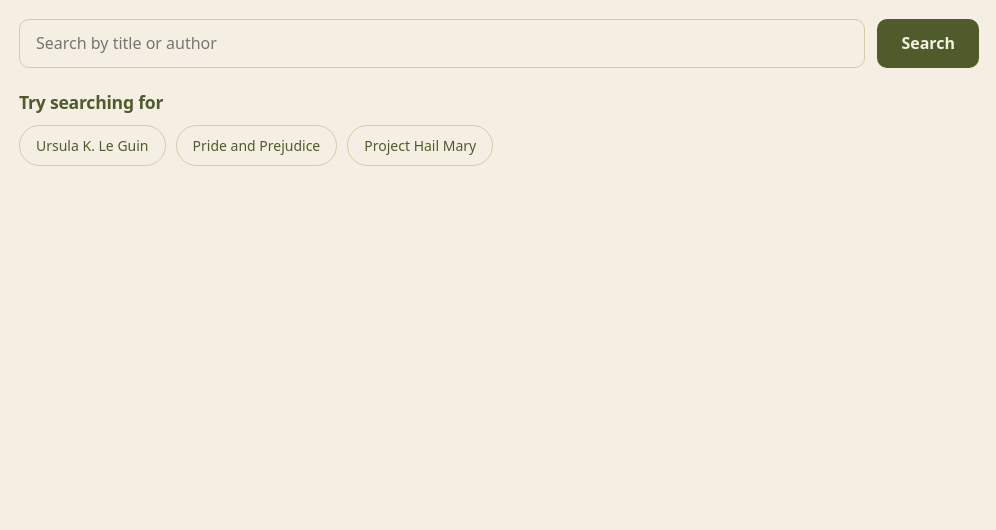
Test: SearchPage › TST-01-T-1 search page lists results for a query
This screenshot has width=996, height=530.
Type "dune" into the dropdown labelled "Search by title or author" at (442, 44), box [19,19,865,68]
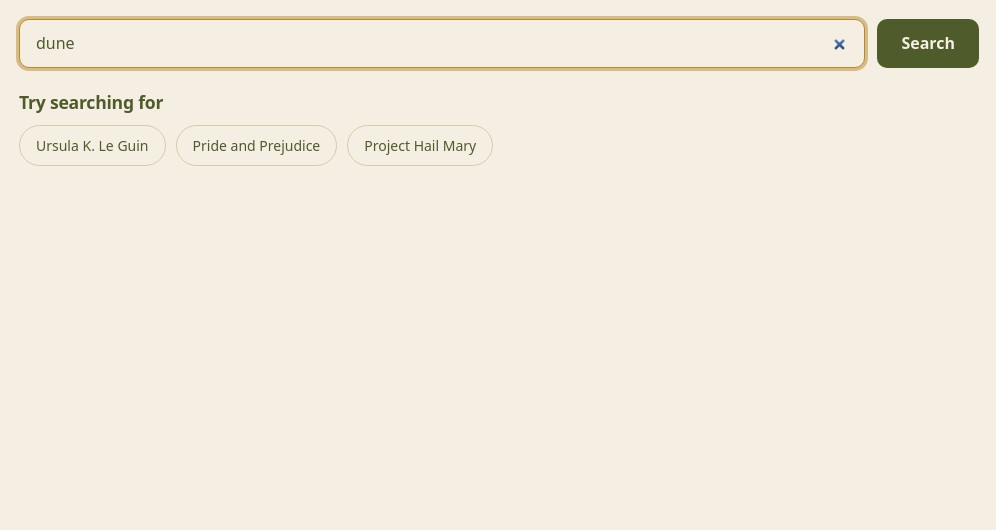
Click the button "Search" at (928, 44), box [877,19,979,68]
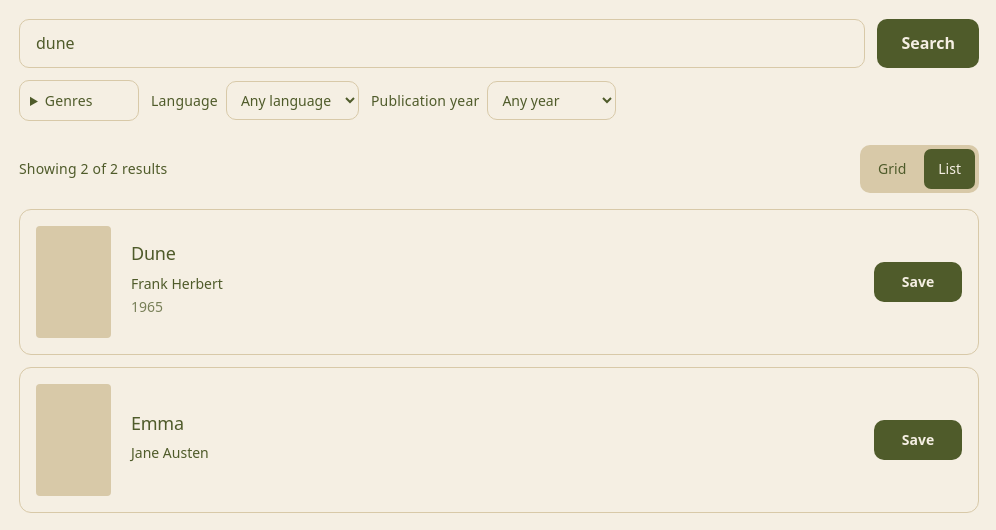
expect the button with aria-label "View details for Dune by Frank Herbert" is shown: met, box [20,210,858,354]
expect the text "Showing 2 of 2 results" is shown: met, box [19,157,167,181]
